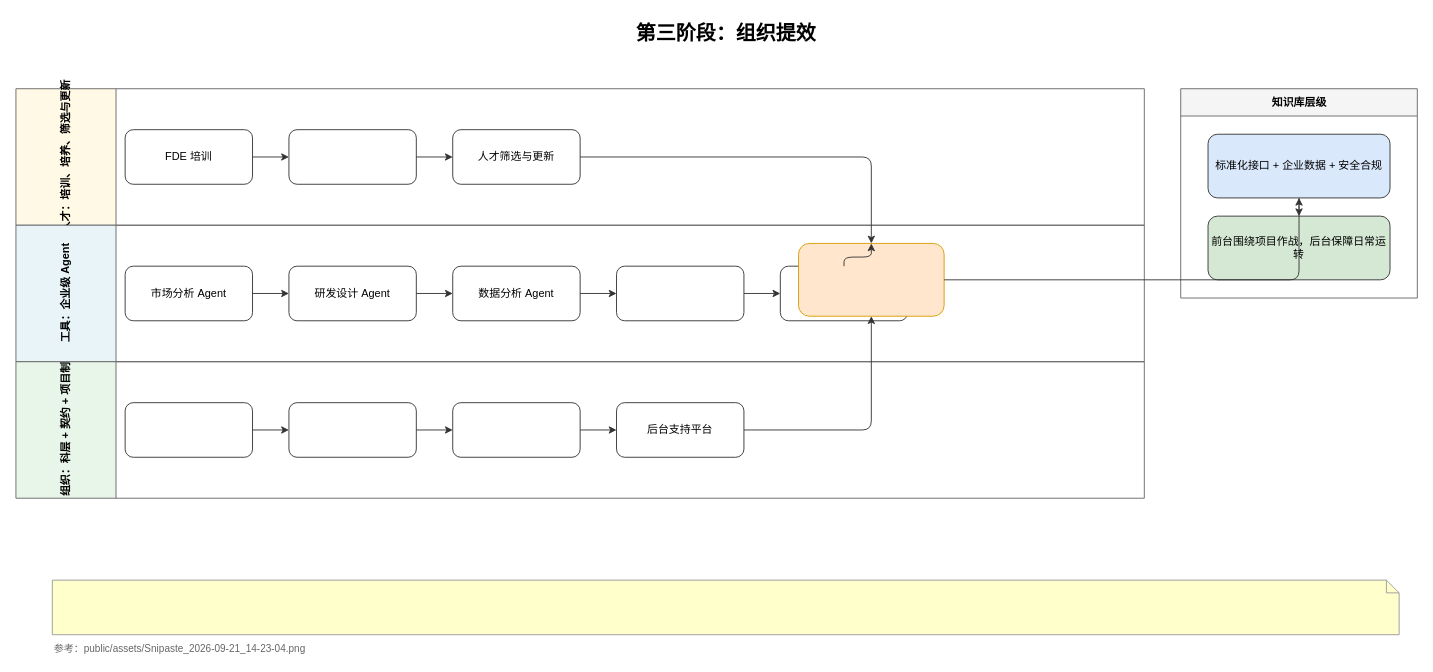
Some shapes in this 1433 by 672 pixel diagram are drawn without their labels. Each missing label, with the centre of its shape:
人定方向与验收，AI 承担大量执行: the point at 725,607
人才培养: the point at 352,156
前台项目小队: the point at 516,429
契约边界（目标权责 / SLA / 资源预算）: the point at 352,429
成熟的企业级 Agent 协作: the point at 871,279
知识管理 Agent: the point at 680,293
科层责任链: the point at 188,429
